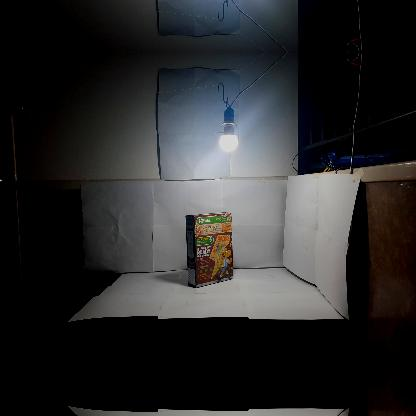Koko-Krunch: (185, 212, 233, 288)
